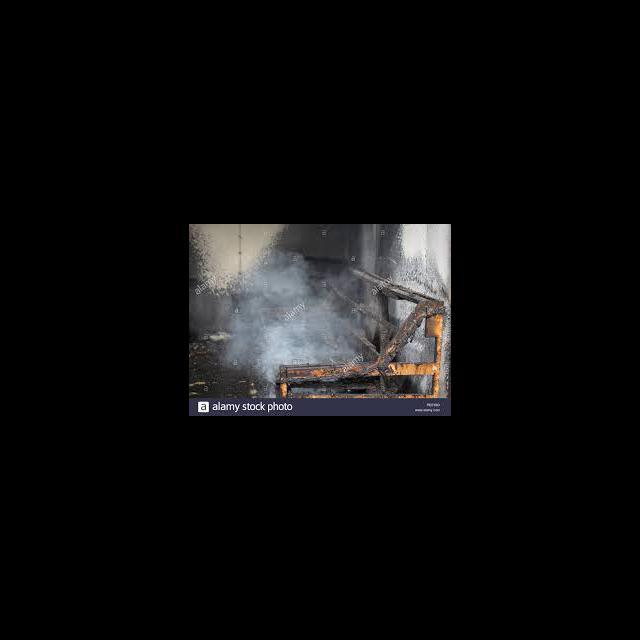Smoke: (225, 252, 358, 380)
